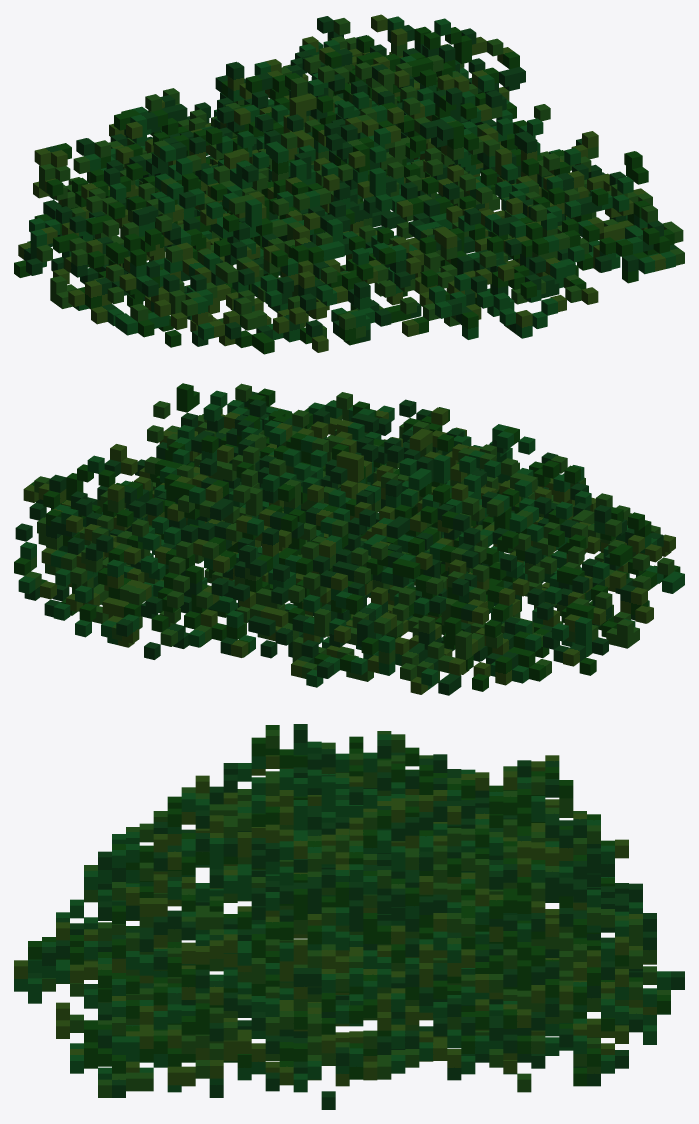
File: Bushes-4.fbx
3 renders of one model, top to bottom at view 1: azimuth 30°, elevation 25°; view 2: azimuth 150°, elevation 25°; view 3: azimuth 270°, elevation 25°, orthographic. The views are drawn at different scales.
Parts seen in each view (by area): view 1: Bushes-4; view 2: Bushes-4; view 3: Bushes-4.
Boxes of the visible parts, x1=… form: Bushes-4: x1=14, y1=14, x2=684, y2=354; Bushes-4: x1=14, y1=383, x2=684, y2=695; Bushes-4: x1=14, y1=724, x2=684, y2=1109.
Bounding box in the file's own units: 51 × 12 × 48.
